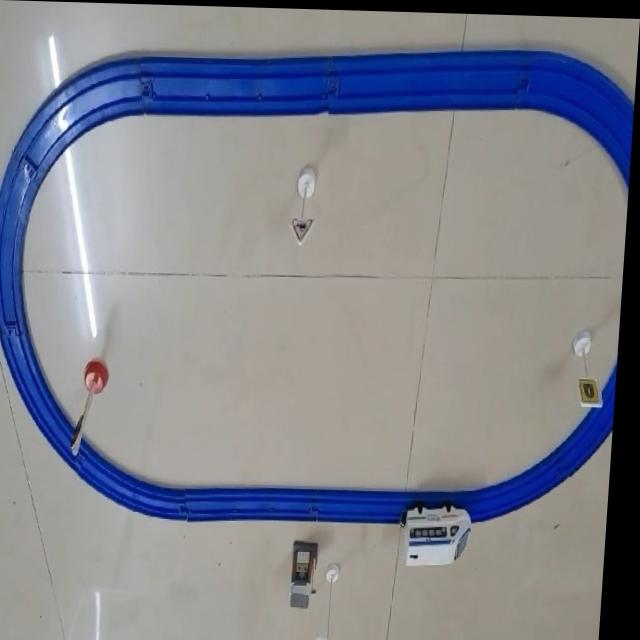bus: (406, 499, 481, 566)
